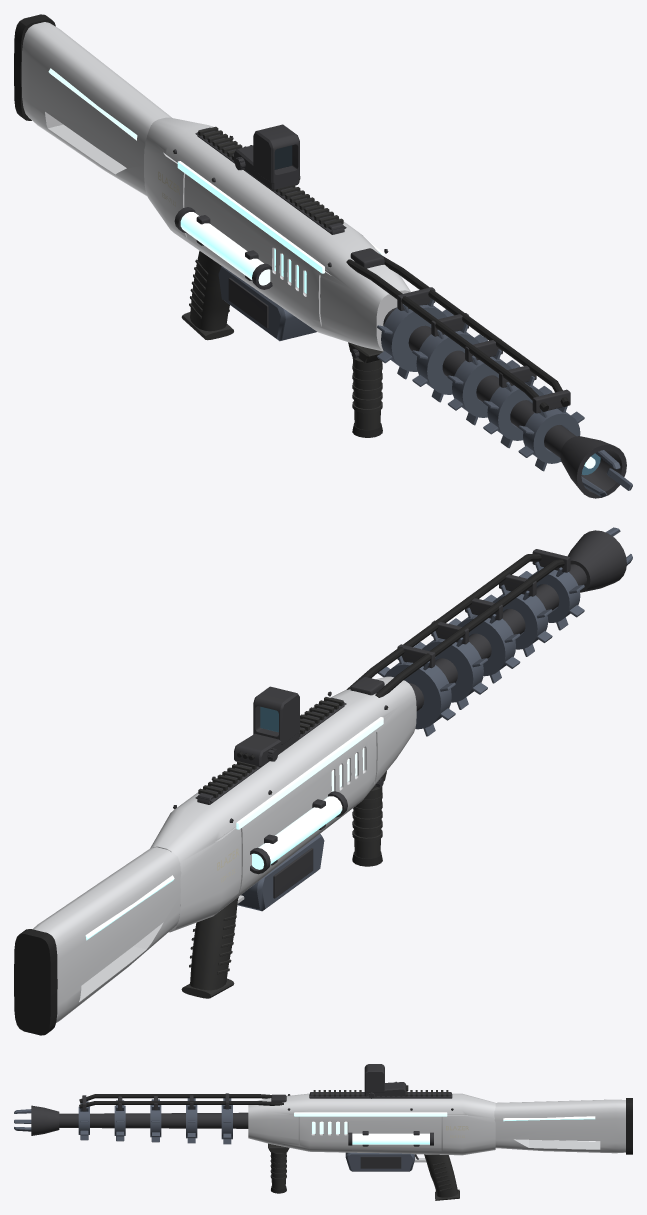
The model's file is blazer.glb.
The picture shows the model from 3 angles, top to bottom: view 1: azimuth 30°, elevation 25°; view 2: azimuth 150°, elevation 25°; view 3: azimuth 270°, elevation 25°; orthographic projection. The views are drawn at different scales.
Visible parts, largest first — view 1: Body; view 2: Body; view 3: Body.
Part boxes in pixels (box(x1,y1,x2,y2)): Body: box(14, 14, 632, 498); Body: box(14, 527, 632, 1035); Body: box(14, 1064, 632, 1200).
Bounding box in the file's own units: 0.1104 × 0.2827 × 1.21.
